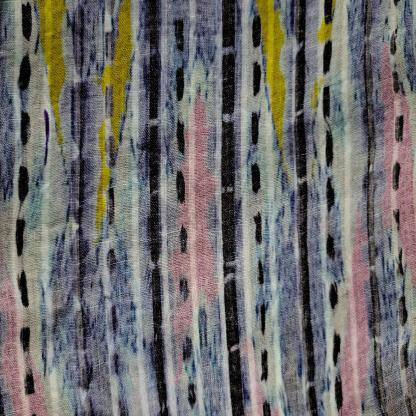spot: (38, 98, 53, 177)
